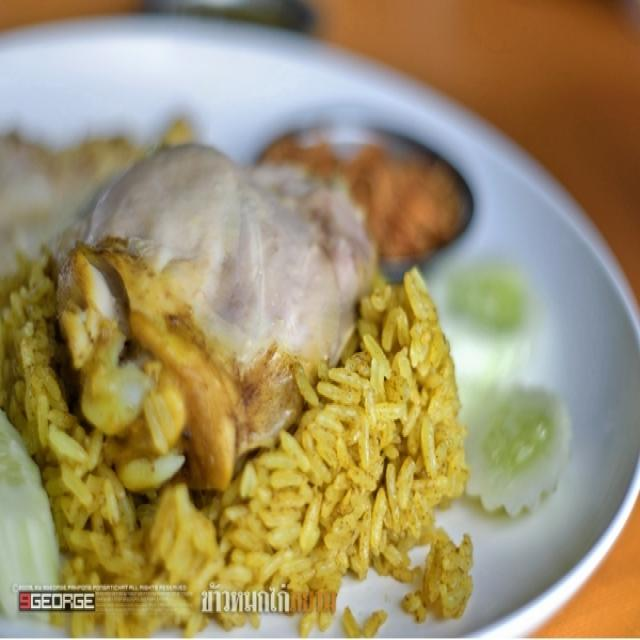米饭主食: (10, 24, 613, 624)
